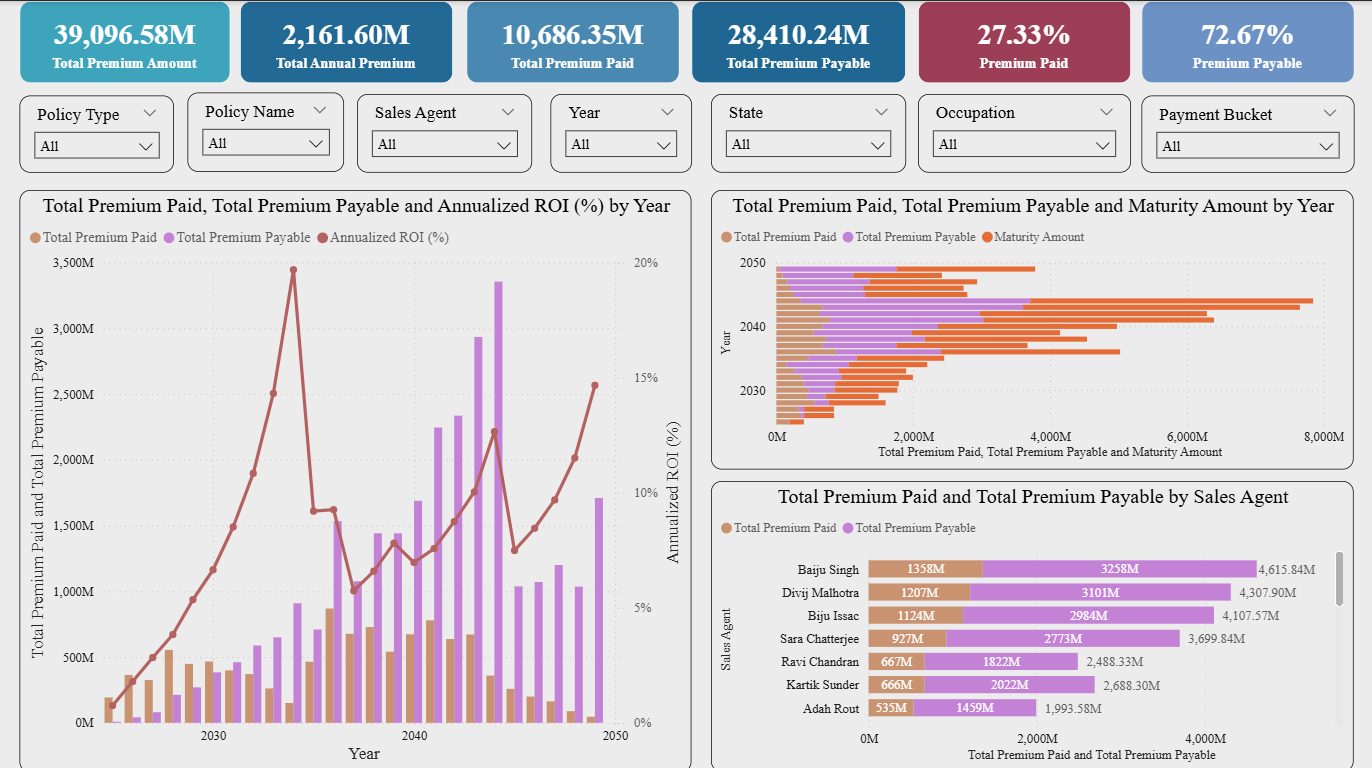

The page's visual inventory and layout, read from the dashboard file:
{"tool":"powerbi","page":{"name":"Premium Analysis","canvas":[1280,720],"ordinal":4},"visuals":[{"type":"card","fields":{"Values":["Sum(FCT Insurance_Policy_Table.Total Annual Premium)"]},"box":[223.3,0,198.3,76.7],"z":0},{"type":"card","fields":{"Values":["Sum(FCT Insurance_Policy_Table.Total Premium Amount)"]},"box":[18.3,0,196.7,76.7],"z":1000},{"type":"card","fields":{"Values":["Sum(FCT Insurance_Policy_Table.Total Premium Paid)"]},"box":[435,0,198.3,76.7],"z":2000},{"type":"card","fields":{"Values":["Sum(FCT Insurance_Policy_Table.Total Premium Payable)"]},"box":[645,0,200,76.7],"z":3000},{"type":"card","fields":{"Values":["FCT Insurance_Policy_Table.% Premium Paid"]},"box":[856.7,0,198.3,76.7],"z":4000},{"type":"slicer","fields":{"Values":["DM Policy_Type.Policy Type"]},"box":[18,88,144,72],"z":5000},{"type":"slicer","fields":{"Values":["DM Policy_Protection_Plan.Policy Name"]},"box":[174.3,86,146,74],"z":6000},{"type":"slicer","fields":{"Values":["DM Insurance_Agent_Table.Sales Agent"]},"box":[333.3,86.7,163.3,73.3],"z":7000},{"type":"slicer","fields":{"Values":["FCT Insurance_Policy_Table.Start Date.Variation.Date Hierarchy.Year"]},"box":[513.3,86.7,131.7,73.3],"z":8000},{"type":"slicer","fields":{"Values":["DM Customer_Detail_Table.State"]},"box":[663.3,86.7,181.7,73.3],"z":9000},{"type":"slicer","fields":{"Values":["DM Customer_Detail_Table.Occupation"]},"box":[856.7,86.7,198.3,73.3],"z":10000},{"type":"card","fields":{"Values":["FCT Insurance_Policy_Table.% Premium Payable"]},"box":[1065,0,198.3,76.7],"z":11000},{"type":"lineClusteredColumnComboChart","fields":{"Category":["FCT Insurance_Policy_Table.Tenure Date.Variation.Date Hierarchy.Year","FCT Insurance_Policy_Table.Tenure Date.Variation.Date Hierarchy.Quarter","FCT Insurance_Policy_Table.Tenure Date.Variation.Date Hierarchy.Month","FCT Insurance_Policy_Table.Tenure Date.Variation.Date Hierarchy.Day"],"Y":["FCT Insurance_Policy_Table.Total_Premium_Paid","FCT Insurance_Policy_Table.Total_Premium_Payable"],"Y2":["Avg(FCT Insurance_Policy_Table.Annualized ROI (%))"]},"box":[18.2,175.6,626.9,543.6],"z":12000},{"type":"slicer","fields":{"Values":["FCT Insurance_Policy_Table.Payment Bucket"]},"box":[1065,88.3,198.3,71.7],"z":13000},{"type":"barChart","fields":{"Category":["FCT Insurance_Policy_Table.Tenure Date.Variation.Date Hierarchy.Year","FCT Insurance_Policy_Table.Tenure Date.Variation.Date Hierarchy.Quarter","FCT Insurance_Policy_Table.Tenure Date.Variation.Date Hierarchy.Month","FCT Insurance_Policy_Table.Tenure Date.Variation.Date Hierarchy.Day"],"Y":["FCT Insurance_Policy_Table.Total_Premium_Paid","FCT Insurance_Policy_Table.Total_Premium_Payable","Sum(FCT Insurance_Policy_Table.Maturity Amount)"]},"box":[663.2,175.6,599.6,260.4],"z":14000},{"type":"barChart","fields":{"Y":["FCT Insurance_Policy_Table.Total_Premium_Paid","FCT Insurance_Policy_Table.Total_Premium_Payable"],"Category":["DM Insurance_Agent_Table.Sales Agent"]},"box":[663.2,448.2,599.6,271],"z":15000}]}

Visuals, with their boxes in screenshot pixels (x1, y1, x2, y2), scaled from the page's 1280x720 canvas onto the 1372x768 screenshot:
card - Sum(FCT Insurance_Policy_Table.Total Annual Premium): x1=239, y1=0, x2=452, y2=82
card - Sum(FCT Insurance_Policy_Table.Total Premium Amount): x1=20, y1=0, x2=230, y2=82
card - Sum(FCT Insurance_Policy_Table.Total Premium Paid): x1=466, y1=0, x2=679, y2=82
card - Sum(FCT Insurance_Policy_Table.Total Premium Payable): x1=691, y1=0, x2=906, y2=82
card - FCT Insurance_Policy_Table.% Premium Paid: x1=918, y1=0, x2=1131, y2=82
slicer - DM Policy_Type.Policy Type: x1=19, y1=94, x2=174, y2=171
slicer - DM Policy_Protection_Plan.Policy Name: x1=187, y1=92, x2=343, y2=171
slicer - DM Insurance_Agent_Table.Sales Agent: x1=357, y1=92, x2=532, y2=171
slicer - FCT Insurance_Policy_Table.Start Date.Variation.Date Hierarchy.Year: x1=550, y1=92, x2=691, y2=171
slicer - DM Customer_Detail_Table.State: x1=711, y1=92, x2=906, y2=171
slicer - DM Customer_Detail_Table.Occupation: x1=918, y1=92, x2=1131, y2=171
card - FCT Insurance_Policy_Table.% Premium Payable: x1=1142, y1=0, x2=1354, y2=82
lineClusteredColumnComboChart - FCT Insurance_Policy_Table.Tenure Date.Variation.Date Hierarchy.Year x FCT Insurance_Policy_Table.Tenure Date.Variation.Date Hierarchy.Quarter: x1=20, y1=187, x2=691, y2=767
slicer - FCT Insurance_Policy_Table.Payment Bucket: x1=1142, y1=94, x2=1354, y2=171
barChart - FCT Insurance_Policy_Table.Tenure Date.Variation.Date Hierarchy.Year x FCT Insurance_Policy_Table.Tenure Date.Variation.Date Hierarchy.Quarter: x1=711, y1=187, x2=1354, y2=465
barChart - FCT Insurance_Policy_Table.Total_Premium_Paid x FCT Insurance_Policy_Table.Total_Premium_Payable: x1=711, y1=478, x2=1354, y2=767
